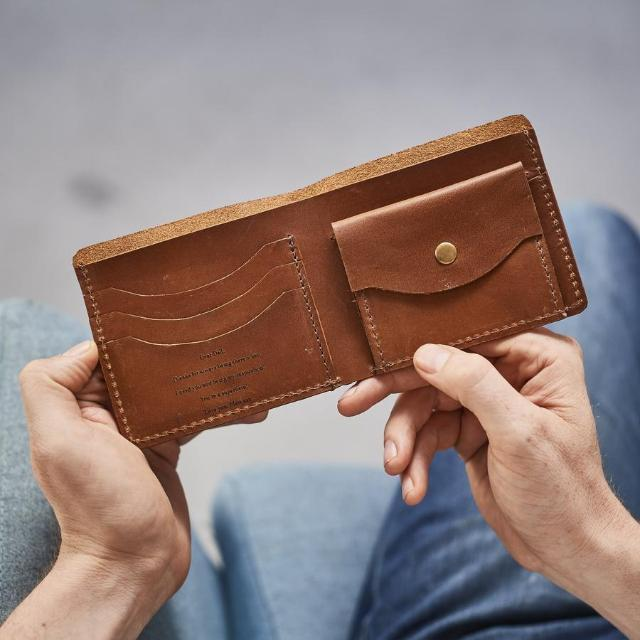wallet: (70, 109, 590, 447)
